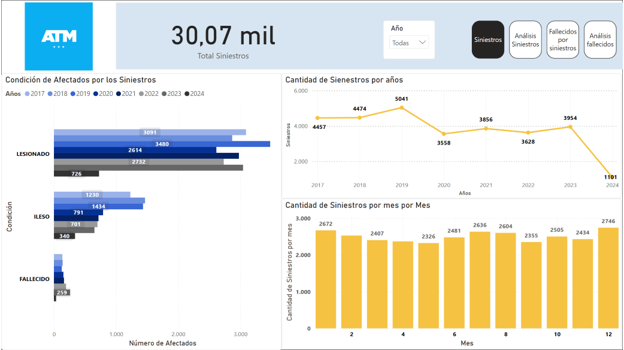

The dashboard page shown, as its layout file describes it:
{"tool":"powerbi","page":{"name":"Siniestros","canvas":[1280,720],"ordinal":0},"visuals":[{"type":"lineChart","title":"Cantidad de Sienestros por años","fields":{"Category":["Data.ANIO"],"Y":["CountNonNull(Data.ANIO)"]},"box":[577,150.3,700.3,258.5],"z":0},{"type":"columnChart","fields":{"Category":["Sheet2.MES_NUMERO"],"Y":["CountNonNull(Data.MES)"]},"box":[577,408.7,700.3,311.1],"z":1000},{"type":"clusteredBarChart","title":"Condición de Afectados por los Siniestros","fields":{"Category":["Data.CONDICION"],"Y":["CountNonNull(Data.CONDICION)"],"Series":["Data.ANIO"]},"box":[0,150.3,577,569.5],"z":2000},{"type":"shape","box":[235.7,5.5,1044.3,137.2],"z":3000},{"type":"card","fields":{"Values":["CountNonNull(Data.ANIO)"]},"box":[297.5,7.5,318.6,136.7],"z":4000},{"type":"slicer","fields":{"Values":["Data.ANIO"]},"box":[785.9,42.1,106.7,79.6],"z":5000},{"type":"pageNavigator","box":[968.5,42.8,299.6,78.3],"z":6000},{"type":"image","box":[0,0,236,150],"z":7000}]}

Visuals, with their boxes in screenshot pixels (x1, y1, x2, y2), scaled from the page's 1280x720 canvas onto the 624x350 screenshot:
"Cantidad de Sienestros por años" lineChart: locate(281, 73, 623, 199)
columnChart - Sheet2.MES_NUMERO x CountNonNull(Data.MES): locate(281, 199, 623, 349)
"Condición de Afectados por los Siniestros" clusteredBarChart: locate(0, 73, 281, 349)
shape: locate(115, 3, 623, 69)
card - CountNonNull(Data.ANIO): locate(145, 4, 300, 70)
slicer - Data.ANIO: locate(383, 20, 435, 59)
pageNavigator: locate(472, 21, 618, 59)
image: locate(0, 0, 115, 73)
